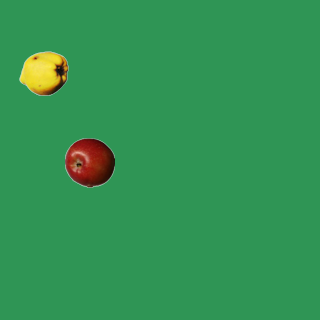Apple Braeburn: (64, 137, 114, 187)
Quince: (18, 48, 68, 98)
